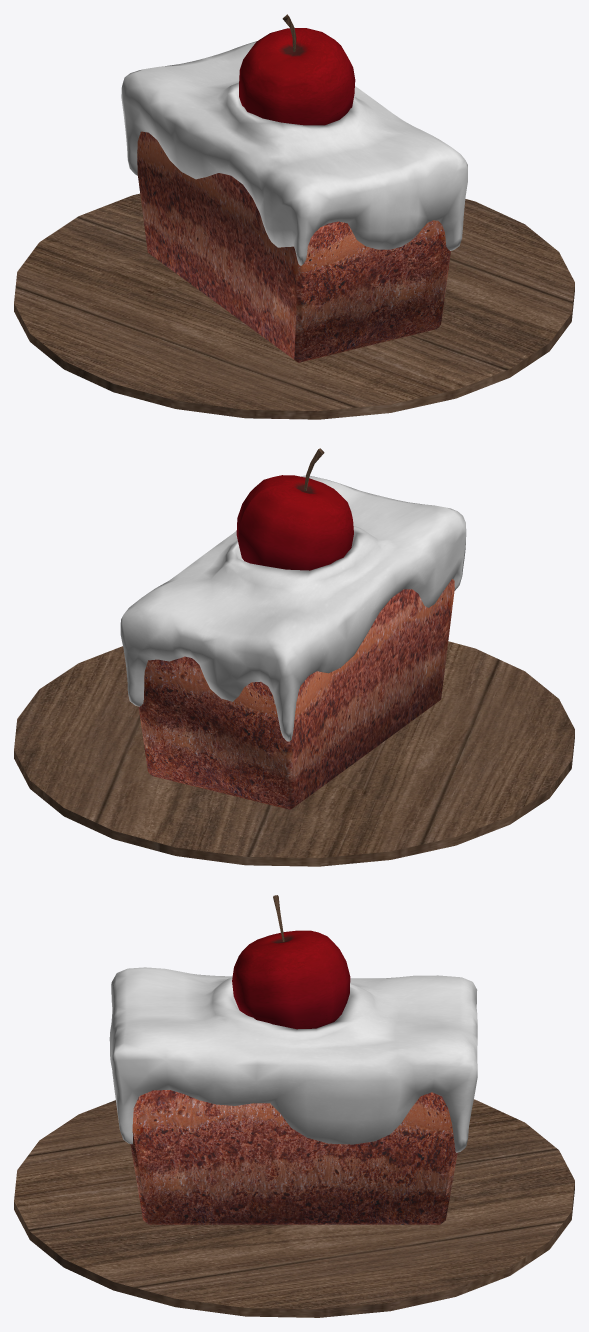
The model's file is cake-sketchfab.glb.
The picture shows the model from 3 angles, top to bottom: view 1: azimuth 30°, elevation 25°; view 2: azimuth 150°, elevation 25°; view 3: azimuth 270°, elevation 25°; orthographic projection.
Parts seen in each view (by area): view 1: 3DSMeshMatrix (×4); view 2: 3DSMeshMatrix (×4); view 3: 3DSMeshMatrix (×4).
Part boxes in pixels (left/top/right/bottom): 3DSMeshMatrix (×4): left=14, top=28, right=574, bottom=419; 3DSMeshMatrix (×4): left=14, top=475, right=574, bottom=866; 3DSMeshMatrix (×4): left=14, top=930, right=574, bottom=1317.
Size of the model in its own units: 1.2 by 0.6977 by 1.2.
4 materials, 4 textured.
